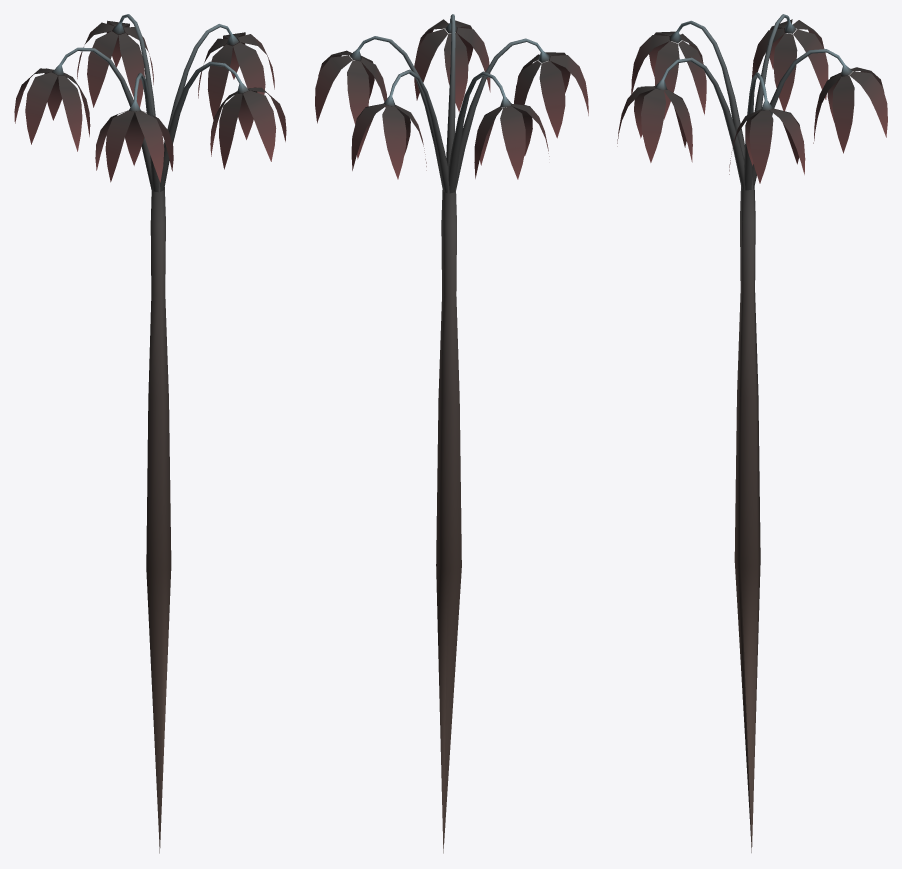
The model's file is plants-flowers-red-bell-flower_v5.glb.
3 views of the same model, side by side, from view 1: azimuth 30°, elevation 25°; view 2: azimuth 150°, elevation 25°; view 3: azimuth 270°, elevation 25° (orthographic).
Parts seen in each view (by area): view 1: Red Bell Flower_v5; view 2: Red Bell Flower_v5; view 3: Red Bell Flower_v5.
Boxes of the visible parts, x1,y1,x2,y2 form: Red Bell Flower_v5: [14, 14, 286, 853]; Red Bell Flower_v5: [315, 14, 588, 853]; Red Bell Flower_v5: [617, 14, 887, 852].
Bounding box in the file's own units: 0.2149 × 0.7 × 0.2126.
